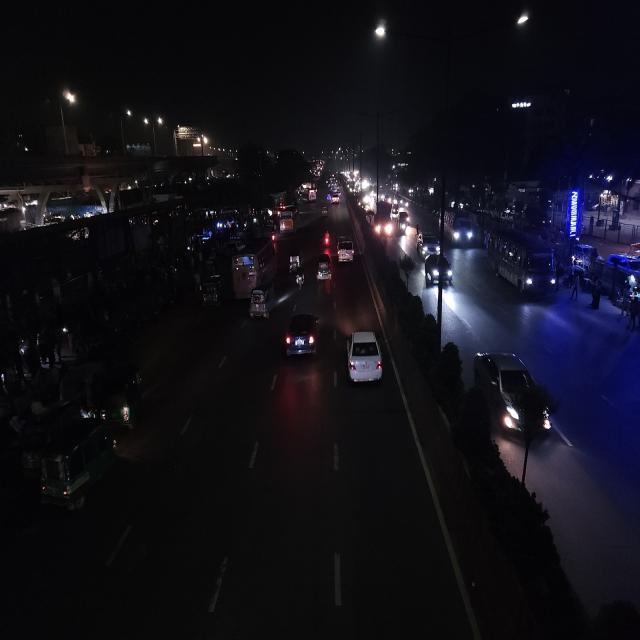bus: (484, 226, 558, 302), (232, 238, 276, 290), (445, 205, 475, 250), (278, 203, 300, 235)
car: (472, 346, 558, 446), (343, 326, 385, 395), (284, 307, 322, 364), (424, 252, 456, 291), (415, 230, 441, 258), (336, 234, 356, 266), (315, 252, 333, 285), (398, 208, 410, 230), (329, 189, 341, 206), (308, 186, 318, 202)
cng: (105, 362, 145, 431), (195, 272, 224, 314), (246, 282, 274, 322), (315, 252, 333, 285), (286, 248, 303, 274)
motorcycle: (293, 268, 305, 292), (322, 227, 332, 249), (320, 204, 329, 218)
pedestrian: (570, 273, 580, 305)
pickup_van: (376, 205, 392, 238)
truck: (278, 203, 300, 235)
